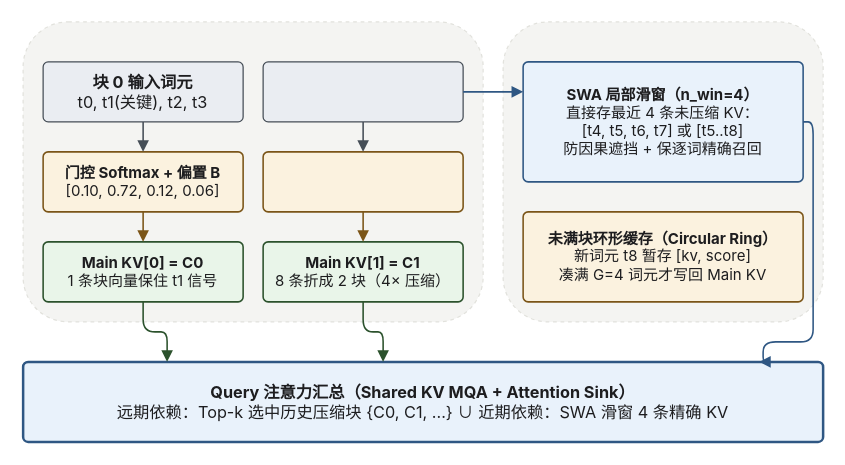
The diagram is 845 pixels wide and 465 high, and some of its shapes have lost their labels. The box of each missing label's shape, as (x1, y1, x2, y2) in pixels:
主路径：序列压缩（步长 G=4，8 词元折成 2 块）: (22, 21, 483, 322)
块 1 输入词元 t4, t5, t6(关键), t7: (262, 61, 463, 122)
局部与尾部状态缓存（State Cache）: (502, 21, 823, 322)
门控 Softmax + 偏置 B [0.08, 0.14, 0.65, 0.13]: (262, 150, 463, 212)
